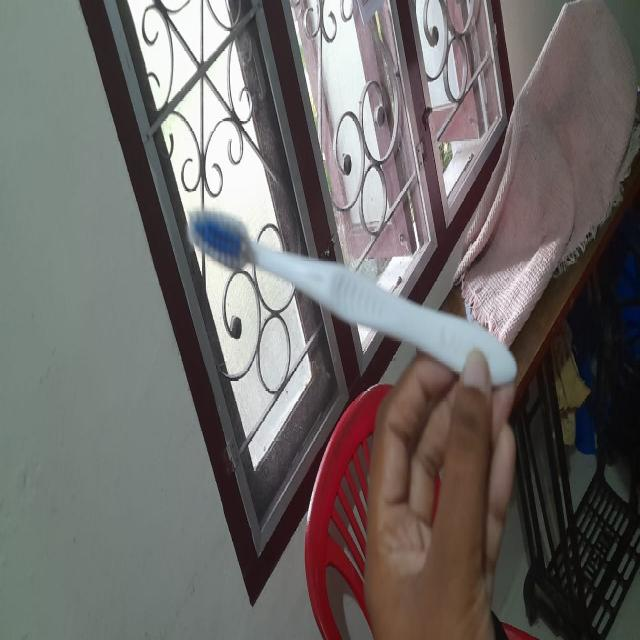Tooth_Brush - Non Recyclable: (180, 173, 525, 442)
